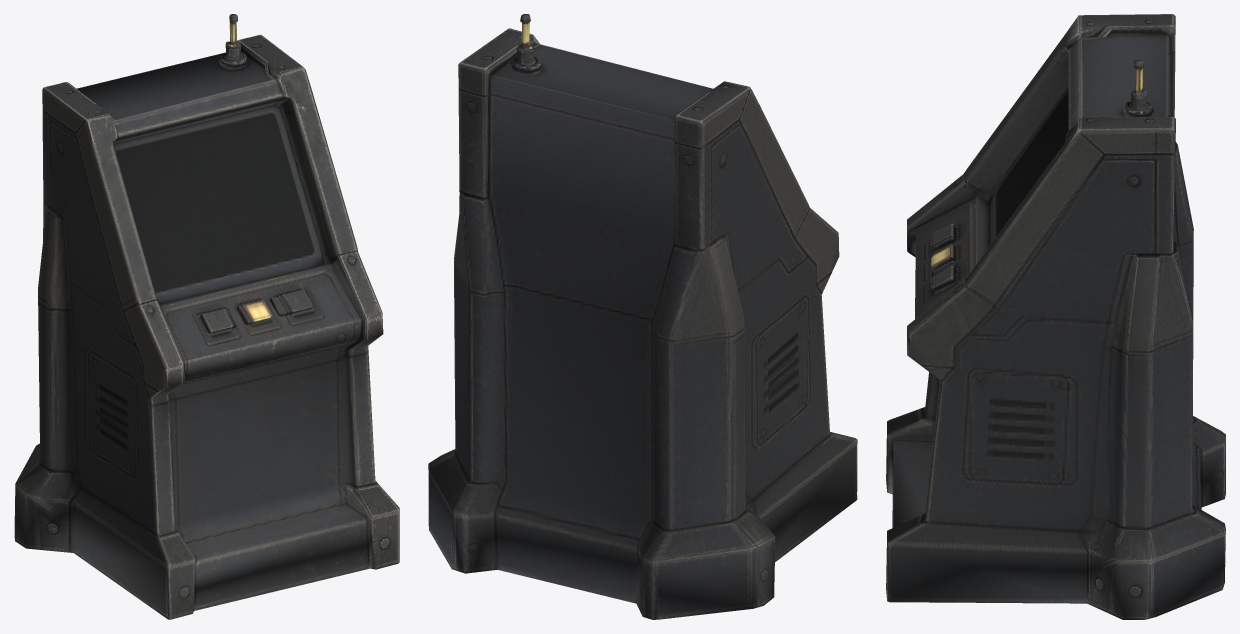
Rendered from Mission Terminal.glb.
The picture shows the model from 3 angles, left to right: view 1: azimuth 30°, elevation 25°; view 2: azimuth 150°, elevation 25°; view 3: azimuth 270°, elevation 25°; orthographic projection. The views are drawn at different scales.
Bounding box in the file's own units: 1.32 × 2 × 1.2.
1 material, 1 textured.
